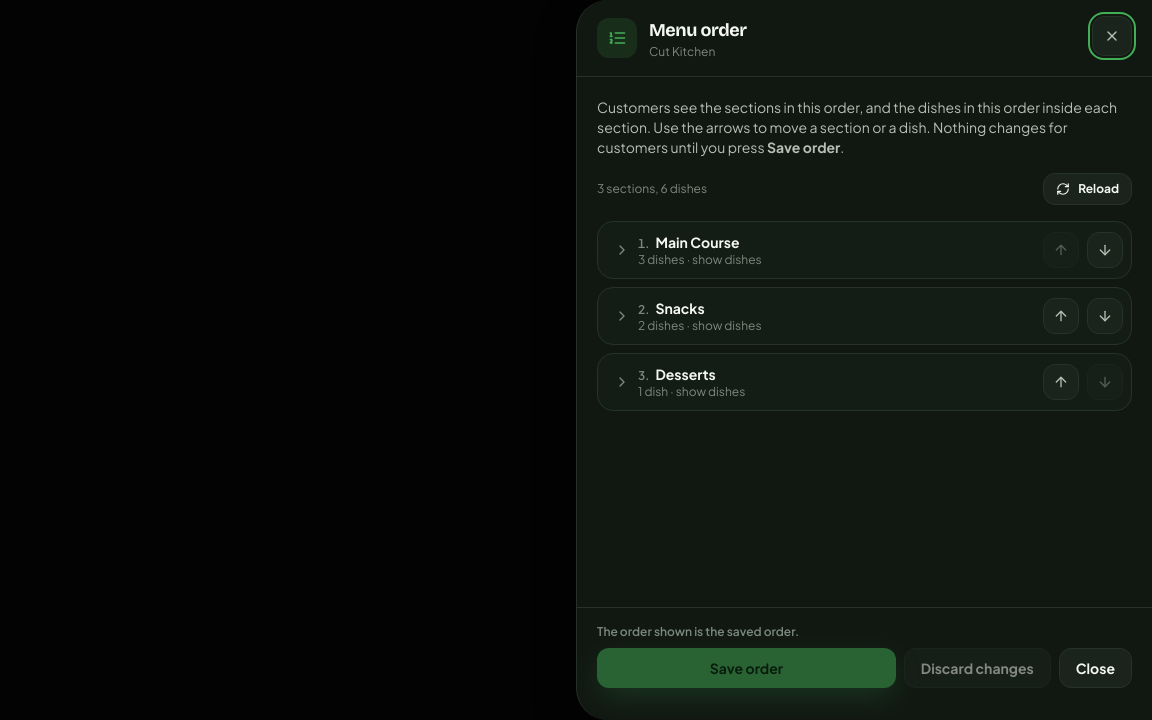
Test case: saving › sends every section in order and every dish with its place, tells the parent and reloads
Click the button named "Move section Desserts up" at (1061, 382), box [1043,364,1079,400]
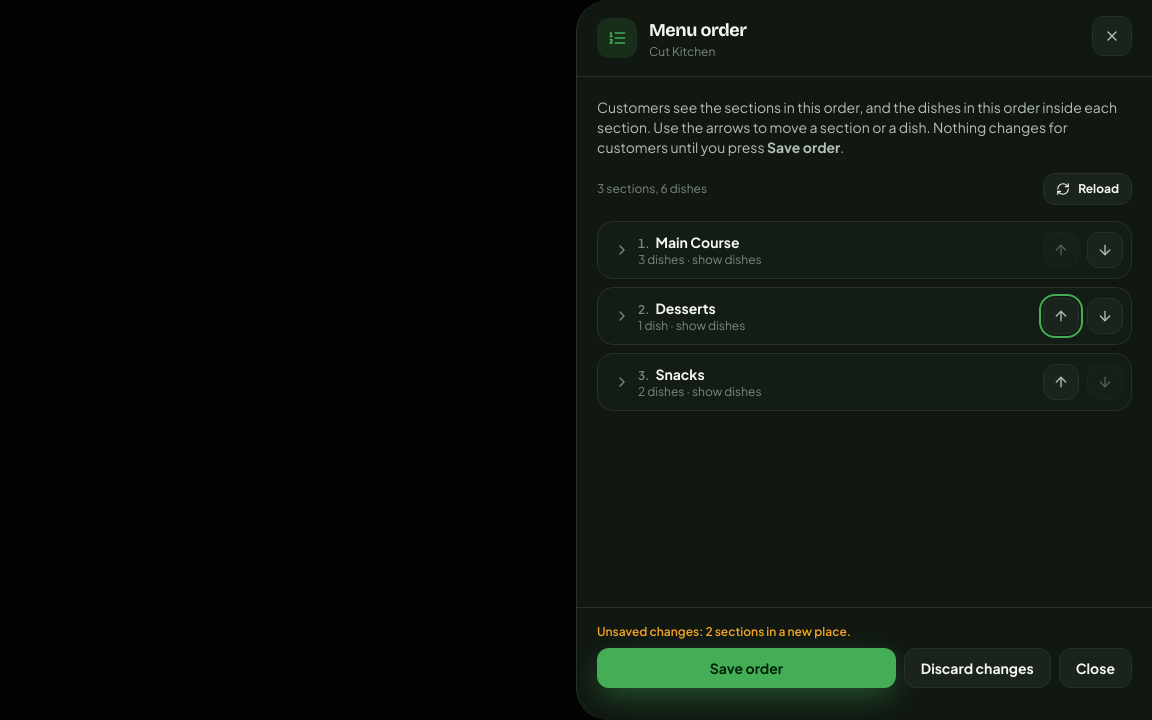
Click the button named "Move section Desserts up" at (1061, 316), box [1043,298,1079,334]
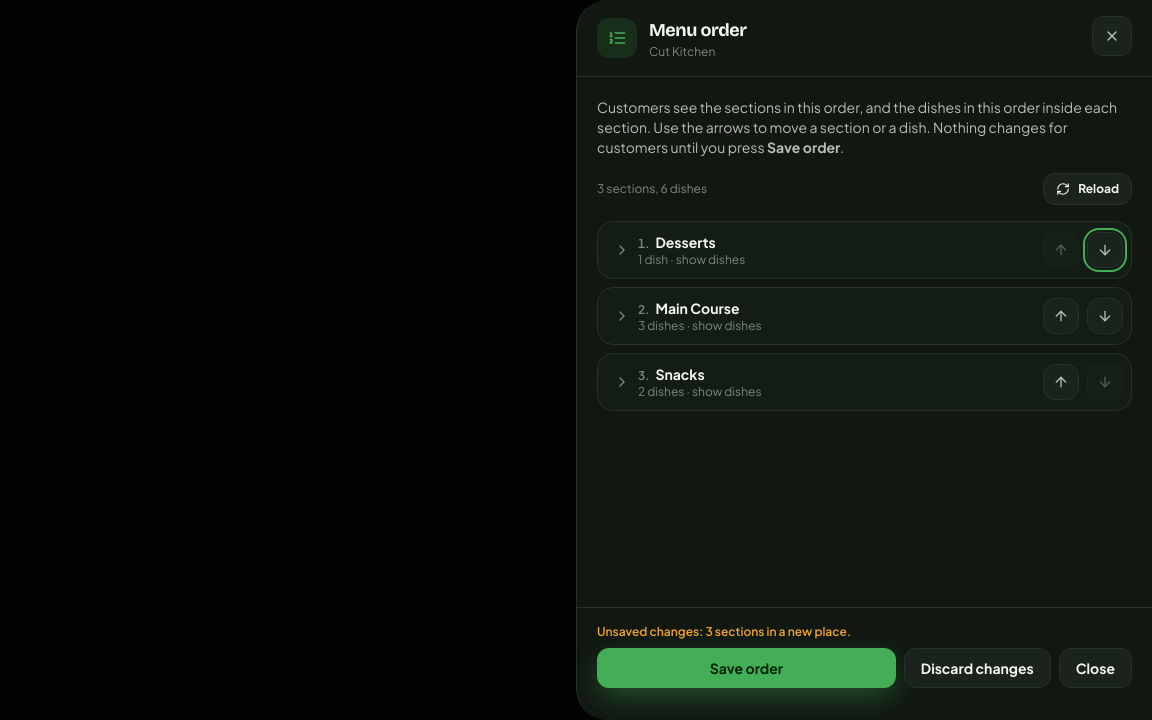
Click the button "2.Main Course 3 dishes · show dishes" at (697, 308), box [606,296,1035,336]
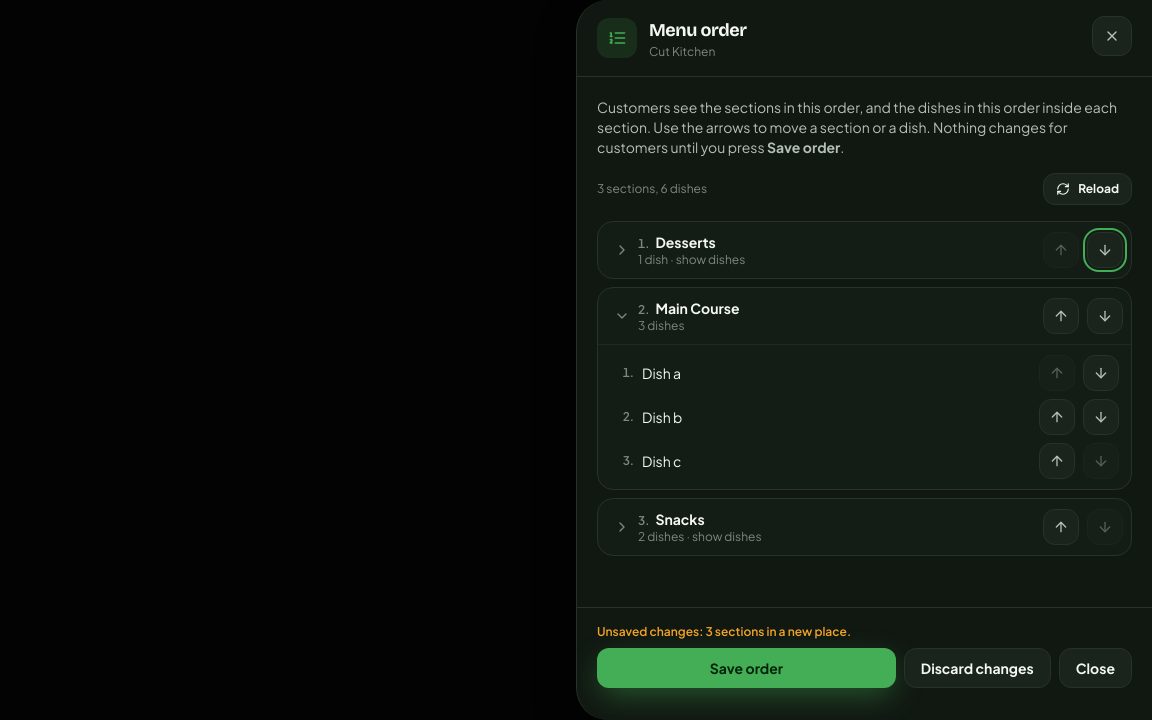
Click the button named "Move Dish b up" at (1057, 417), box [1039,399,1075,435]
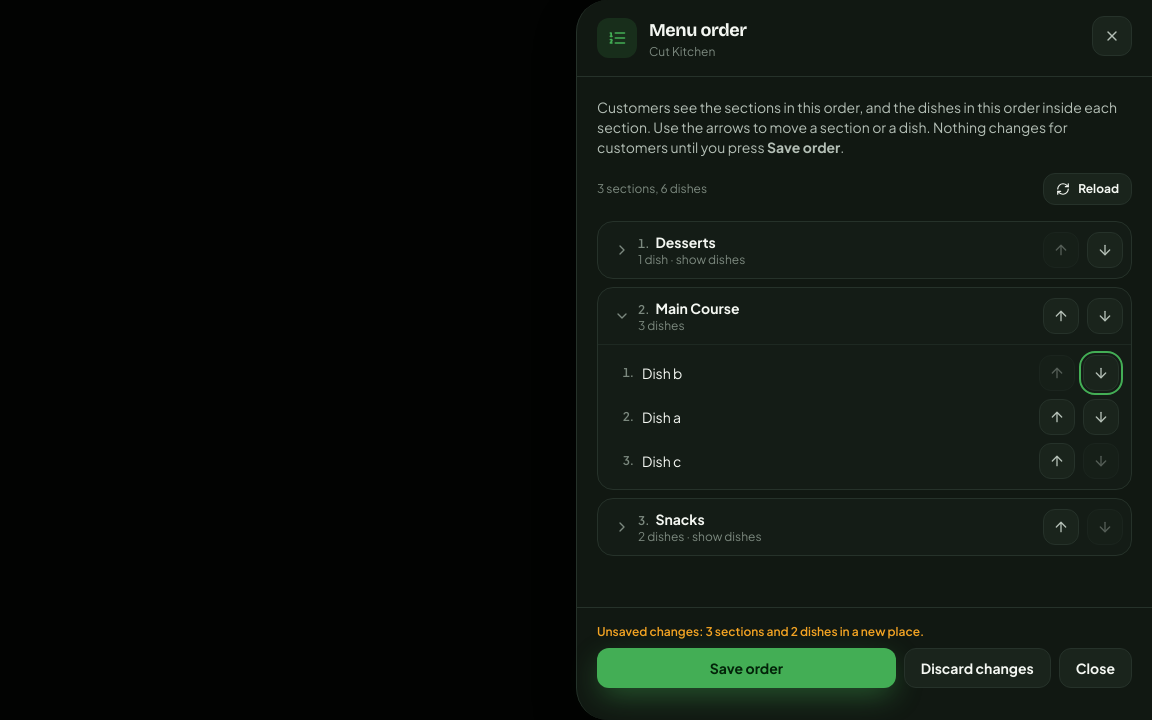
Click the button "Save order" at (746, 668), box [597,648,896,688]
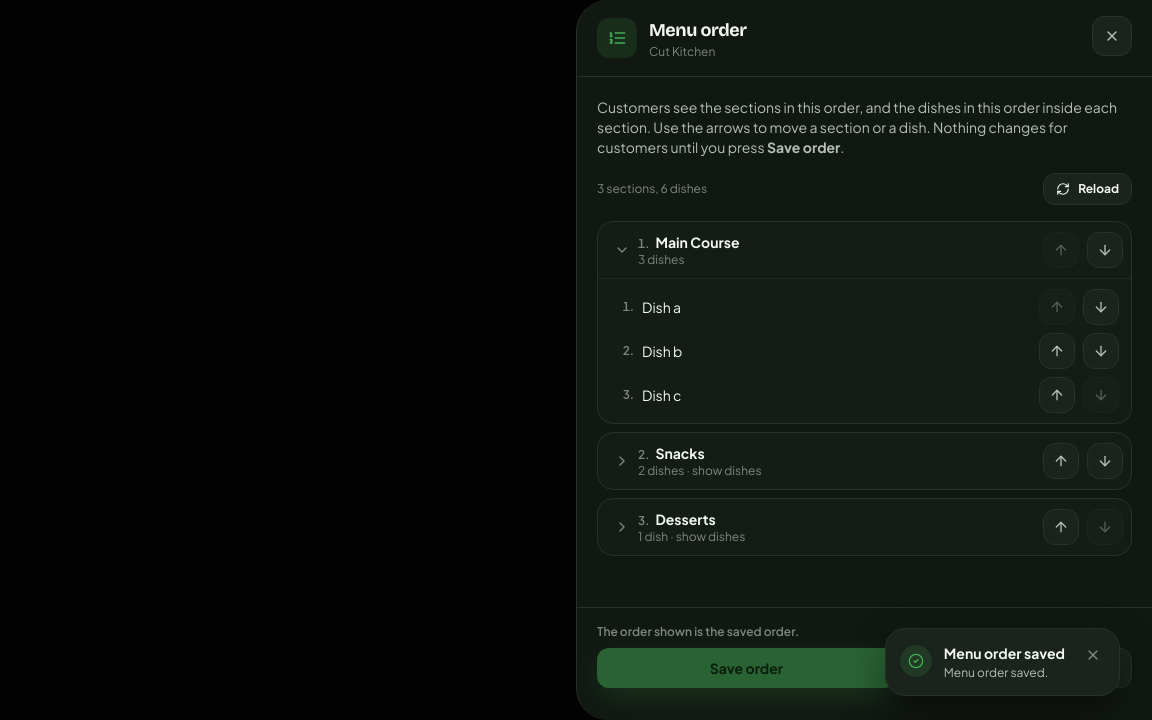
Result: the message with test id "order-status" reads "The order shown is the saved order." at [597,624,799,639]
Result: the text "Menu order saved." is shown at [944,665,1065,681]
